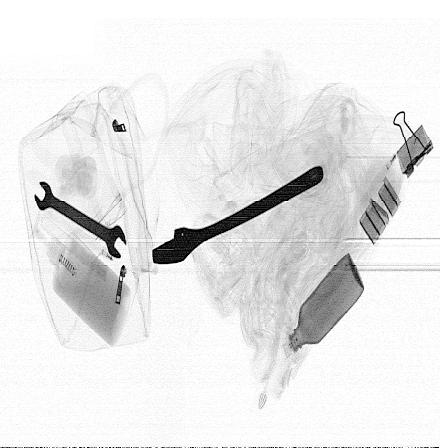Wrench: (152, 160, 325, 267), (35, 180, 128, 256)
